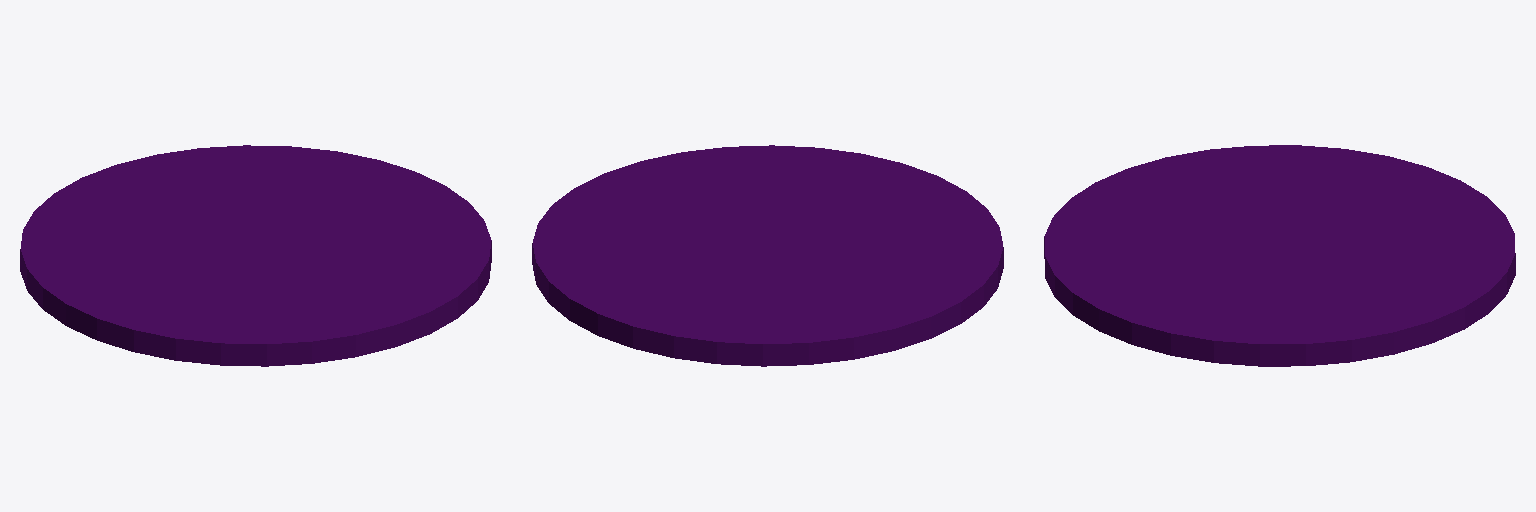
robot.urdf — Interference:
<?xml version="1.0"?>
<robot name="Interference">
  <link name="baseLink">
    <inertial>
      <origin xyz="0.0 0.0 0.0" rpy="0.0 0.0 0.0"/>
      <inertia ixx="0.0" ixy="0.0" ixz="0.0" iyy="0.0" iyz="0.0" izz="0.0"/>
      <mass value="0"/>
    </inertial>
    <visual>
      <origin xyz="0.0 0.0 0.0" rpy="0.0 0.0 -0.47805735462182763"/>
      <geometry>
        <cylinder radius="0.09622131848897371" length="0.01"/>
      </geometry>
      <material name="color">
        <color rgba="0.32659900411344633 0.06924243150590292 0.414856566008007 1.0"/>
      </material>
    </visual>
  </link>
</robot>

--- Facts derived from the render (not from the file) ---
3 views of the same robot in one strip: view 1: azimuth 30°, elevation 25°; view 2: azimuth 150°, elevation 25°; view 3: azimuth 270°, elevation 25° (orthographic).
Robot: Interference — 1 links, 0 joints (none); root link baseLink; default pose: every joint at zero.
Links seen in each view (by area): view 1: baseLink; view 2: baseLink; view 3: baseLink.
Boxes of the visible links, box(x1,y1,x2,y2) form: baseLink: box(20, 145, 491, 366); baseLink: box(532, 145, 1003, 366); baseLink: box(1044, 145, 1515, 366).
Size in the robot's own frame: 0.1917 by 0.1917 by 0.01 metres.
Geometry: primitives only (box / cylinder / sphere), no mesh files.